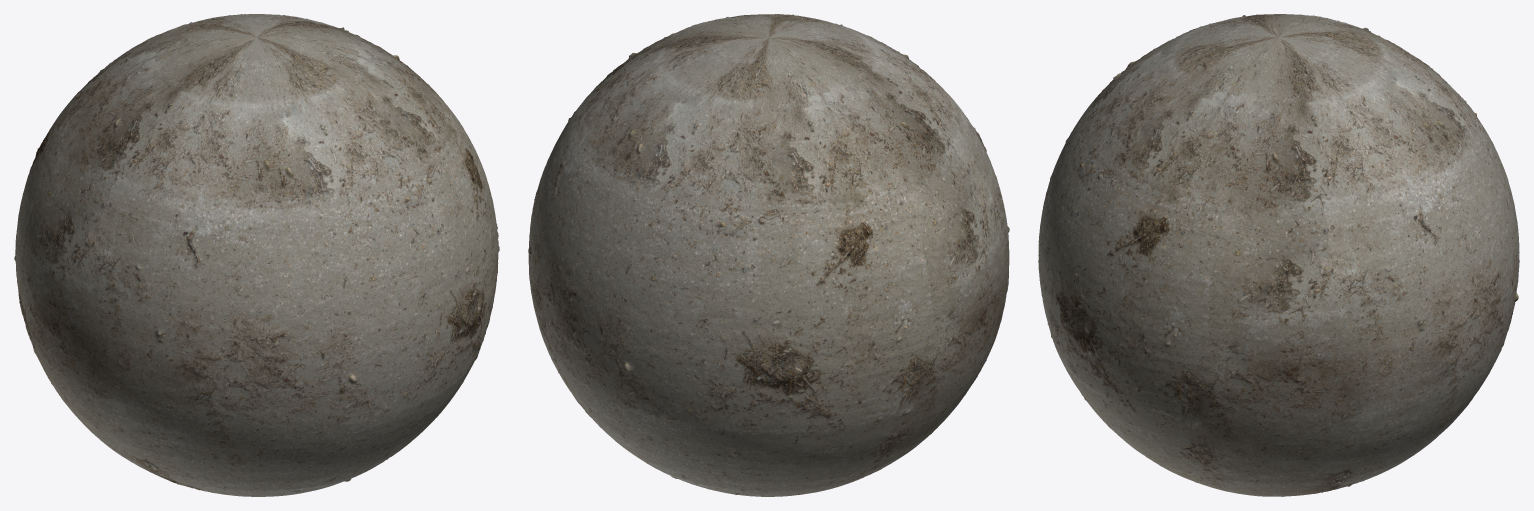
Rendered from dirty_concrete_2k.gltf.
3 views of the same model, side by side, from view 1: azimuth 30°, elevation 25°; view 2: azimuth 150°, elevation 25°; view 3: azimuth 270°, elevation 25° (orthographic).
Visible parts, largest first — view 1: sphere_gltf; view 2: sphere_gltf; view 3: sphere_gltf.
Part boxes in pixels (x1,y1,x2,y2): sphere_gltf: (14,14,499,496); sphere_gltf: (528,14,1009,496); sphere_gltf: (1038,14,1519,496).
Size of the model in its own units: 3 by 3 by 2.99.
Materials: 1 (1 with a texture image).
